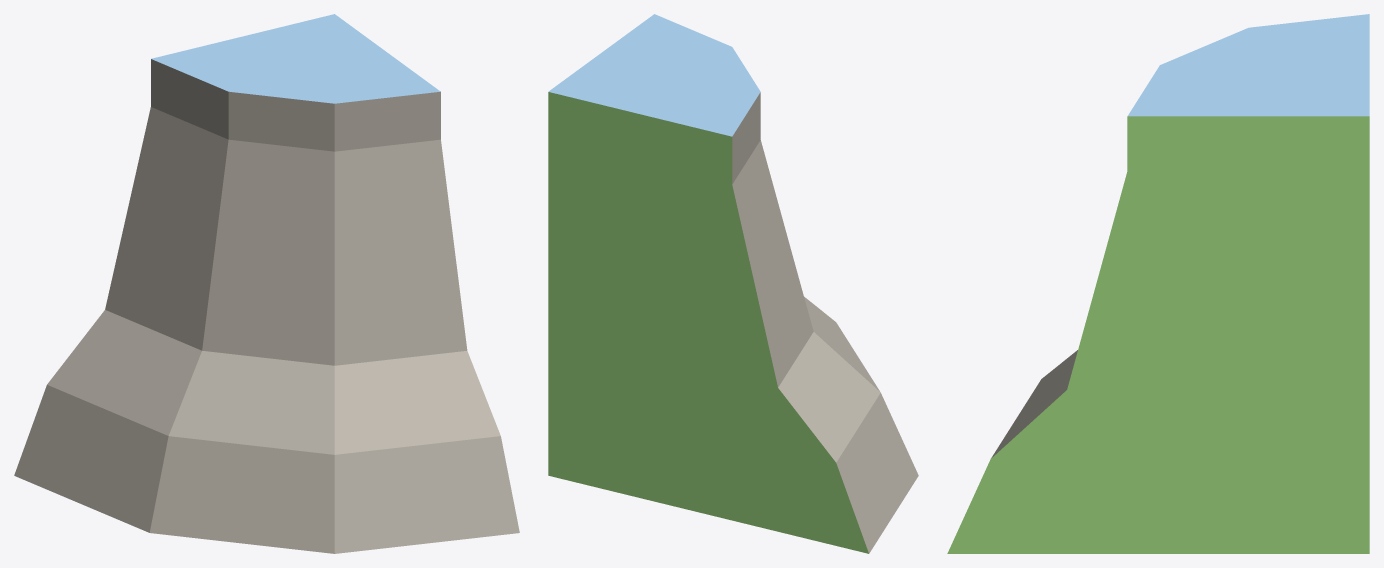
Rendered from Wall_Curve_Outer_2x2_Base.glb.
The picture shows the model from 3 angles, left to right: view 1: azimuth 30°, elevation 25°; view 2: azimuth 150°, elevation 25°; view 3: azimuth 270°, elevation 25°; orthographic projection. The views are drawn at different scales.
Visible parts, largest first — view 1: Wall_Curve_Outer_2x2_Base; view 2: Wall_Curve_Outer_2x2_Base; view 3: Wall_Curve_Outer_2x2_Base.
Part boxes in pixels (x1,y1,x2,y2): Wall_Curve_Outer_2x2_Base: (14,14,519,553); Wall_Curve_Outer_2x2_Base: (548,14,918,553); Wall_Curve_Outer_2x2_Base: (947,14,1369,553).
Bounding box in the file's own units: 175 × 200 × 175.
